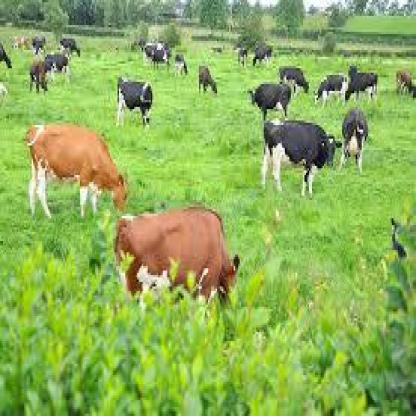cow: (113, 204, 241, 307), (23, 123, 127, 220), (260, 118, 343, 196), (116, 74, 154, 128), (337, 107, 368, 173), (247, 81, 293, 119), (311, 74, 349, 108), (344, 72, 378, 104), (38, 51, 72, 79), (278, 65, 310, 94), (29, 54, 50, 94), (144, 41, 166, 73), (198, 65, 218, 94), (251, 43, 274, 68), (59, 36, 83, 57), (9, 33, 30, 53), (173, 53, 189, 78), (395, 70, 411, 94), (0, 42, 12, 72), (31, 35, 47, 56), (405, 80, 416, 100), (237, 47, 248, 67)
